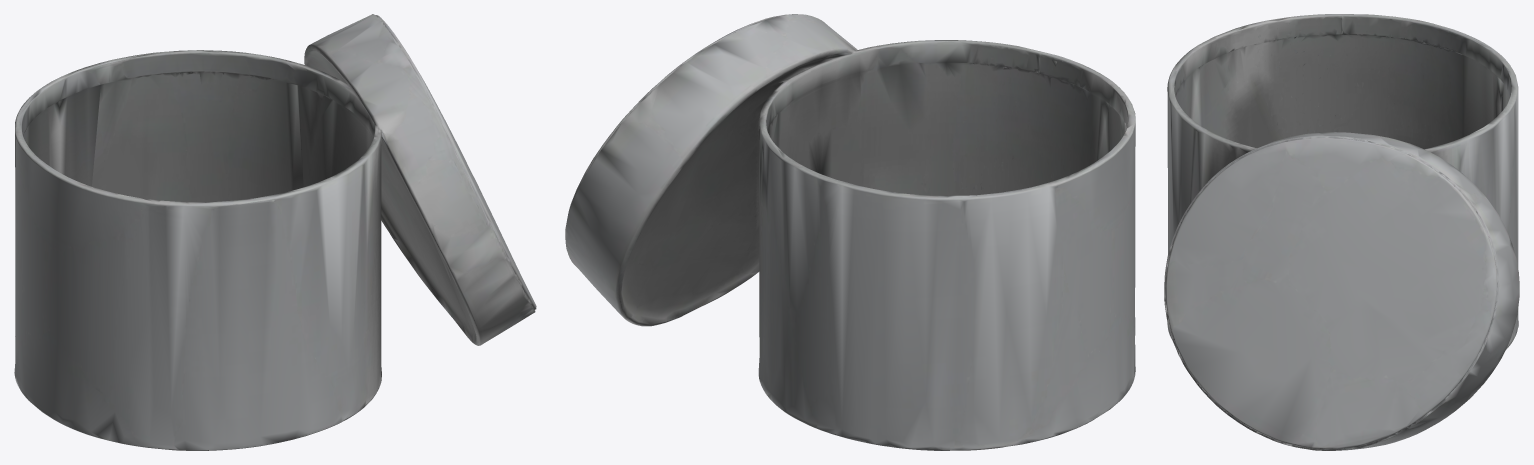
Rendered from fl-wrap-hatbox-round.glb.
3 views of the same model, side by side, from view 1: azimuth 30°, elevation 25°; view 2: azimuth 150°, elevation 25°; view 3: azimuth 270°, elevation 25° (orthographic). The views are drawn at different scales.
Parts seen in each view (by area): view 1: node_0; view 2: node_0; view 3: node_0.
Part boxes in pixels (x1,y1,x2,y2): node_0: (14,14,536,450); node_0: (565,14,1135,450); node_0: (1164,14,1519,450).
Bounding box in the file's own units: 1.05 × 0.6214 × 0.7064.
Materials: 1 (1 with a texture image).
